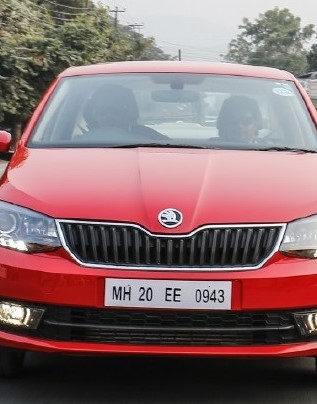MH20EE0943: (104, 279, 231, 312)
